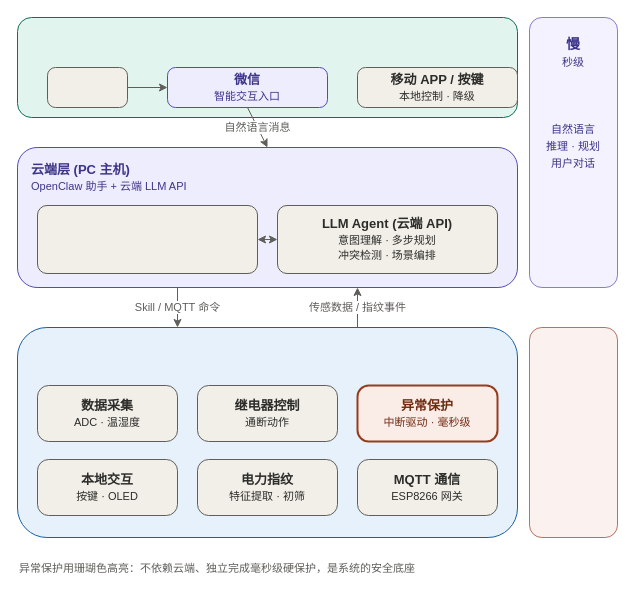
Some shapes in this 635 by 593 pixel diagram are drawn without their labels. Here are the shapes that lost their labels. From the top down, the box of each, then its label:
(46, 66, 128, 108): 用户
(16, 16, 518, 118): 用户层 智能交互入口与传统控制
(36, 204, 258, 274): OpenClaw 助手 消息桥接 · Skill 容器 安全护栏校验
(16, 326, 518, 538): 边缘层 (STM32 节点) 本地实时控制与硬保护
(528, 326, 618, 538): 快 毫秒级 硬中断 本地保护 手动控制
